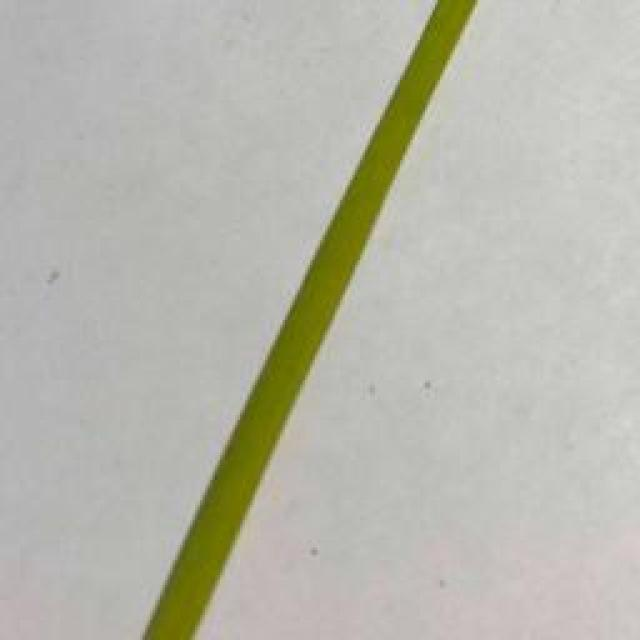Healthy-Plant: (147, 0, 482, 640)
